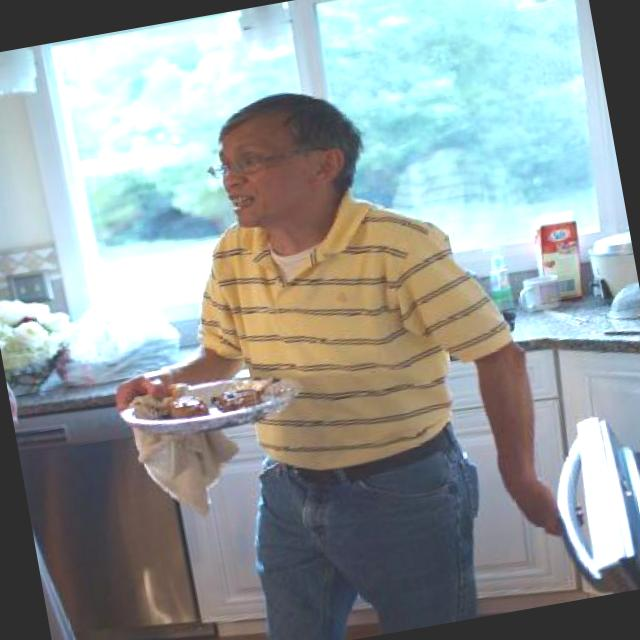Person: (68, 56, 576, 640)
